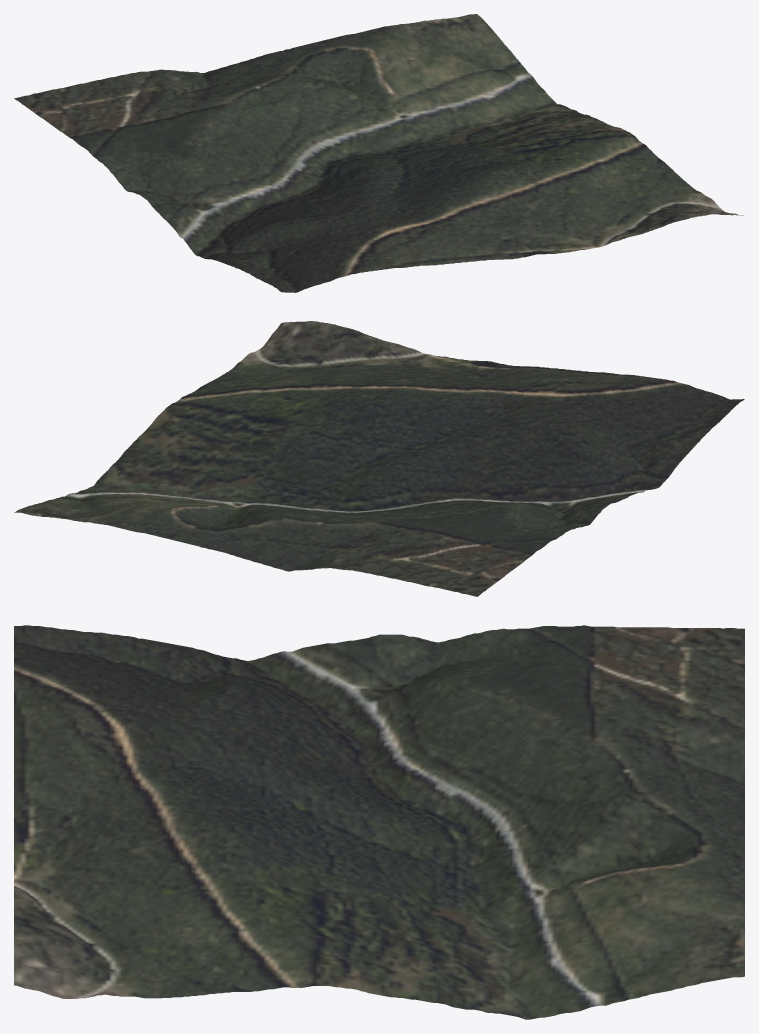
Rendered from tile_1_2.glb.
3 views of the same model, one above another, from view 1: azimuth 30°, elevation 25°; view 2: azimuth 150°, elevation 25°; view 3: azimuth 270°, elevation 25° (orthographic). The views are drawn at different scales.
Parts seen in each view (by area): view 1: tile_1_2; view 2: tile_1_2; view 3: tile_1_2.
Boxes of the visible parts, x1,y1,x2,y2 form: tile_1_2: (14,14,743,292); tile_1_2: (14,321,744,596); tile_1_2: (14,625,744,1019).
Size of the model in its own units: 1000 by 130 by 1000.
1 material, 1 textured.
